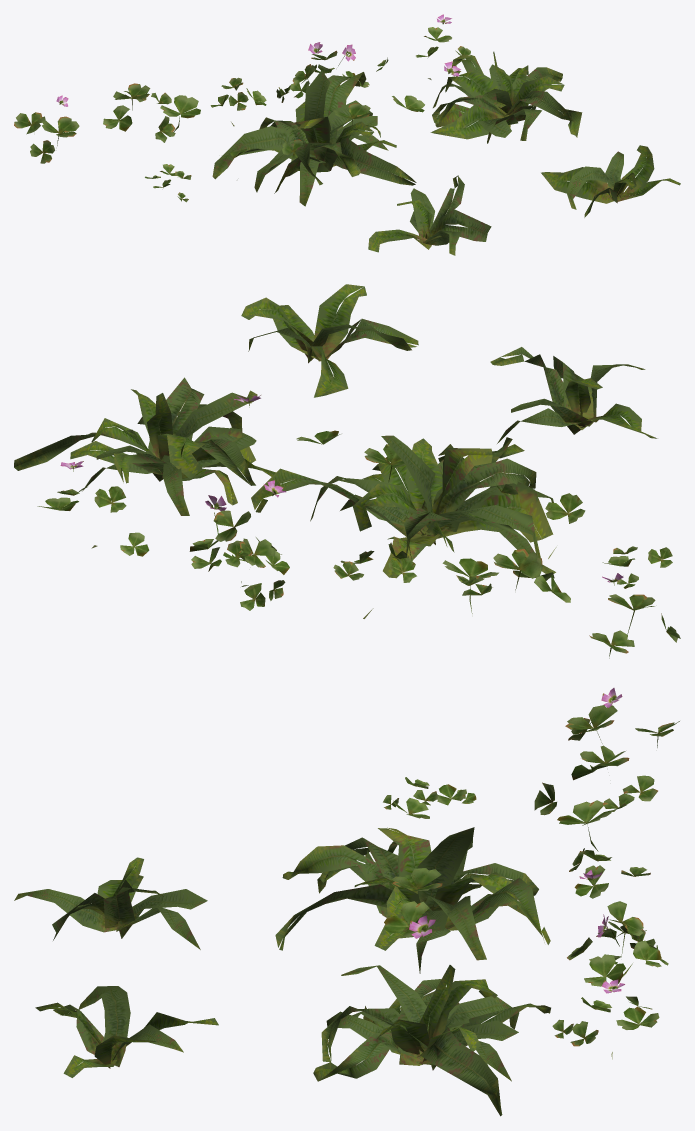
The model's file is ph_botanicals.glb.
3 views of the same model, one above another, from view 1: azimuth 30°, elevation 25°; view 2: azimuth 150°, elevation 25°; view 3: azimuth 270°, elevation 25° (orthographic). The views are drawn at different scales.
Parts seen in each view (by area): view 1: PH_Fern, PH_Shrub; view 2: PH_Fern, PH_Shrub; view 3: PH_Fern, PH_Shrub.
Part boxes in pixels (x1=…): PH_Fern: x1=212, y1=51, x2=680, y2=255; PH_Shrub: x1=14, y1=14, x2=472, y2=202; PH_Fern: x1=14, y1=284, x2=657, y2=578; PH_Shrub: x1=37, y1=395, x2=680, y2=658; PH_Fern: x1=14, y1=827, x2=550, y2=1116; PH_Shrub: x1=383, y1=688, x2=679, y2=1059.
Size of the model in its own units: 5.86 by 0.9497 by 4.65.
Materials: 2 (2 with a texture image).
